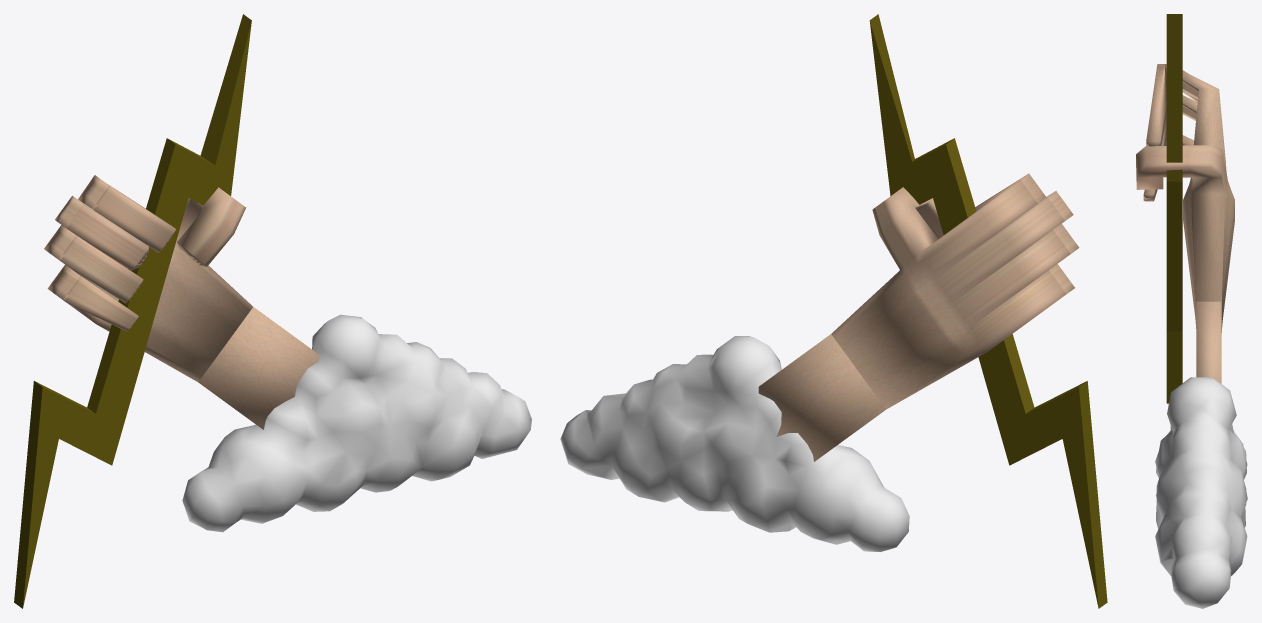
The model's file is zuusss.fbx.
3 views of the same model, side by side, from view 1: azimuth 30°, elevation 25°; view 2: azimuth 150°, elevation 25°; view 3: azimuth 270°, elevation 25° (orthographic). The views are drawn at different scales.
Visible parts, largest first — view 1: Mball.017, hand, lightning; view 2: hand, Mball.017, lightning; view 3: Mball.017, hand, lightning.
Part boxes in pixels (left/top/right/bottom): Mball.017: left=182, top=314, right=531, bottom=532; hand: left=44, top=175, right=319, bottom=429; lightning: left=14, top=14, right=251, bottom=608; hand: left=758, top=173, right=1079, bottom=461; Mball.017: left=560, top=336, right=909, bottom=552; lightning: left=869, top=14, right=1107, bottom=608; Mball.017: left=1155, top=377, right=1247, bottom=608; hand: left=1136, top=64, right=1234, bottom=383; lightning: left=1166, top=14, right=1182, bottom=403.
Size of the model in its own units: 3437 by 3354 by 689.
Materials: 2 (1 with a texture image).
